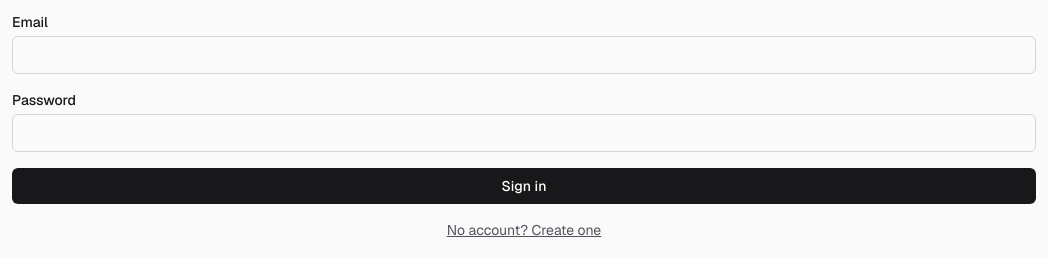
Test: LoginForm › switches back from sign-up to sign-in
Step 1. Click the button "No account? Create one" → [524, 230], box [12,220,1036,240]
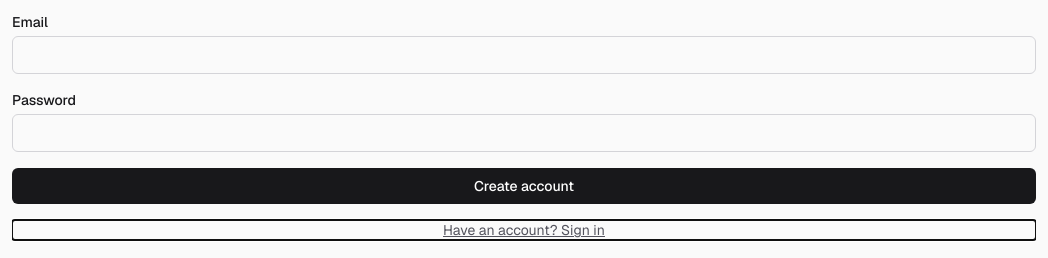
Step 2. Click the button "Have an account? Sign in" → [524, 230], box [12,220,1036,240]
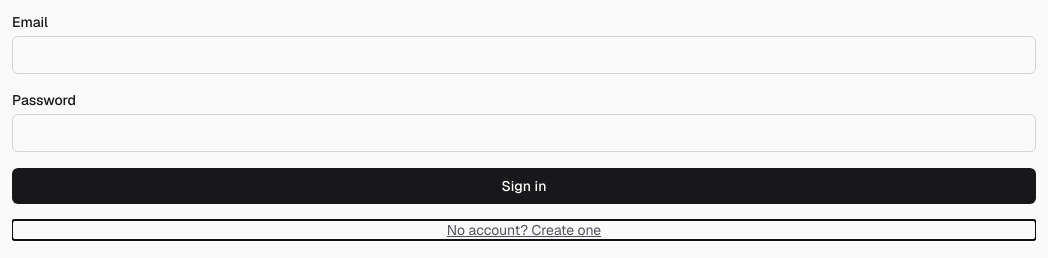
Result: the button "Sign in" is shown at [12,168,1036,204]
